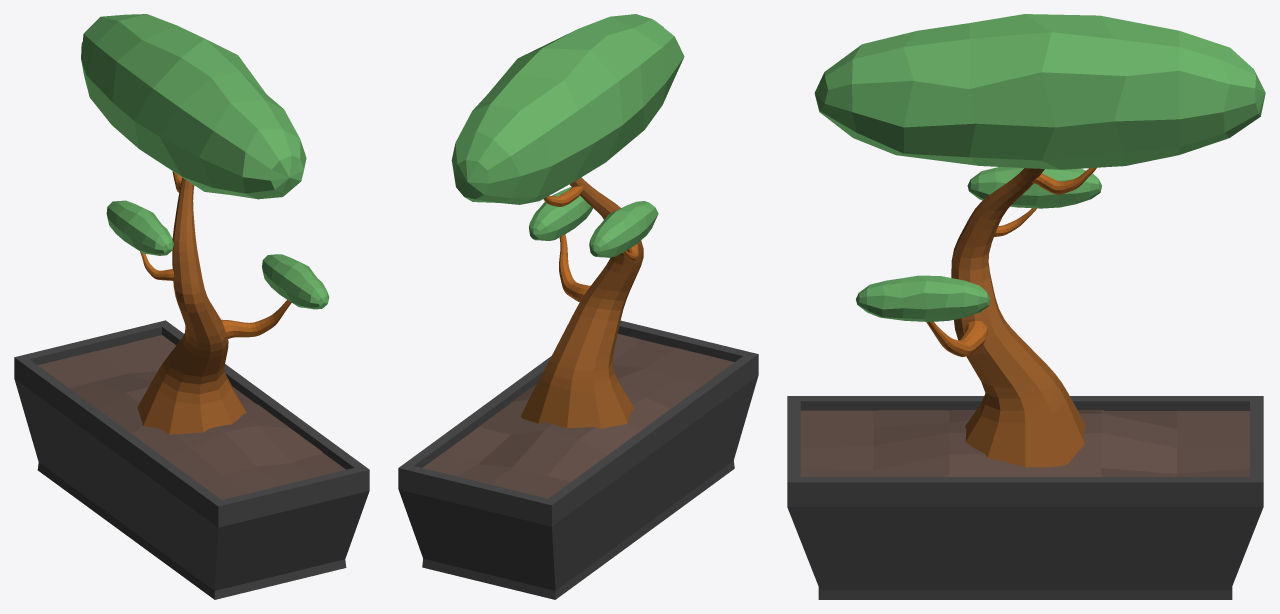
Rendered from Big Bonsai Tree.fbx.
3 renders of one model, left to right at view 1: azimuth 30°, elevation 25°; view 2: azimuth 150°, elevation 25°; view 3: azimuth 270°, elevation 25°, orthographic. The views are drawn at different scales.
Parts seen in each view (by area): view 1: pCube1, pSphere1, pCube2, pCylinder1, pSphere3, pSphere2, pCylinder2; view 2: pCube1, pSphere1, pCube2, pCylinder1, pSphere2, pSphere3, pCylinder2; view 3: pCube1, pSphere1, pCube2, pCylinder1, pSphere3, pSphere2, pCylinder2, pCylinder4.
Boxes of the visible parts, x1,y1,x2,y2 form: pCube1: (14,320,369,599); pSphere1: (81,14,306,199); pCube2: (38,335,345,499); pCylinder1: (137,177,246,434); pSphere3: (262,254,329,309); pSphere2: (106,200,173,255); pCylinder2: (221,299,291,338); pCube1: (398,320,758,599); pSphere1: (451,14,684,204); pCube2: (423,334,734,498); pCylinder1: (521,177,643,428); pSphere2: (589,201,658,257); pSphere3: (529,187,592,240); pCylinder2: (559,234,590,302); pCube1: (787,396,1263,599); pSphere1: (814,14,1265,169); pCube2: (800,410,1249,476); pCylinder1: (951,168,1085,467); pSphere3: (856,275,990,321); pSphere2: (967,167,1101,208); pCylinder2: (926,320,987,356); pCylinder4: (1031,167,1096,194).
Bounding box in the file's own units: 30 × 88.25 × 70.32.
